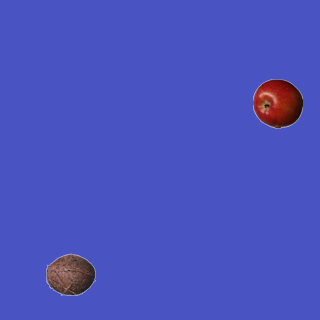Apple Braeburn: (252, 78, 302, 128)
Cocos: (45, 249, 95, 299)
